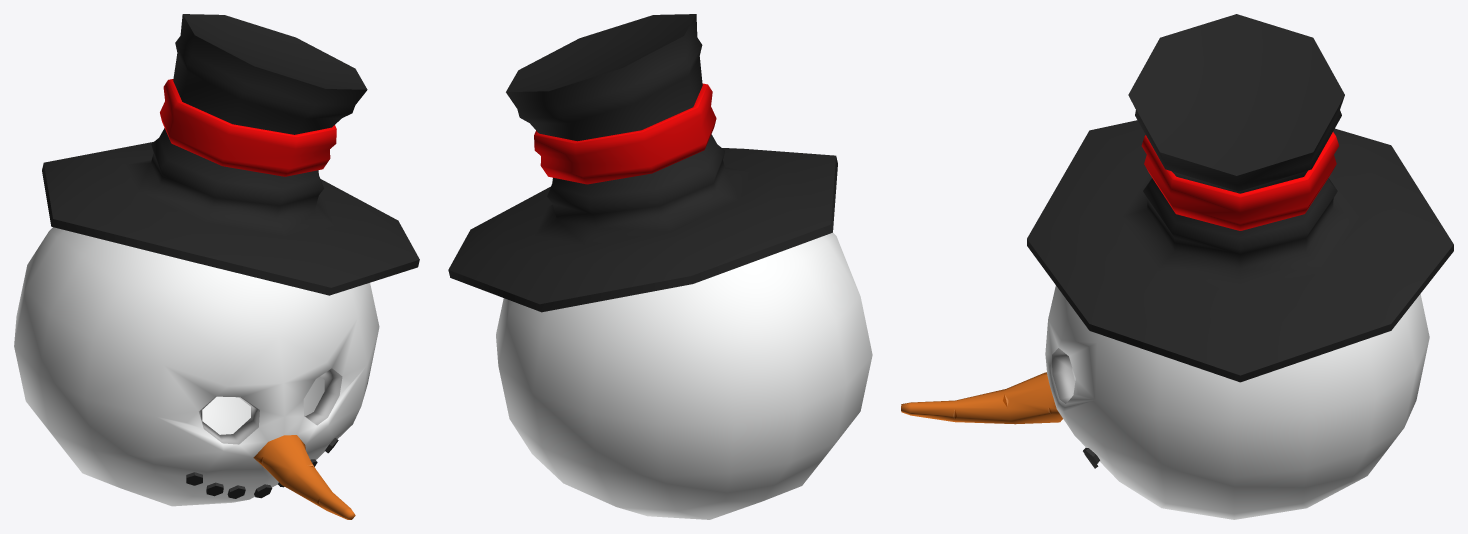
The model's file is Helmet_Snowman.glb.
3 renders of one model, left to right at view 1: azimuth 30°, elevation 25°; view 2: azimuth 150°, elevation 25°; view 3: azimuth 270°, elevation 25°, orthographic. The views are drawn at different scales.
Visible parts, largest first — view 1: Helmet_Snowman; view 2: Helmet_Snowman; view 3: Helmet_Snowman.
Part boxes in pixels (box(x1,y1,x2,y2)): Helmet_Snowman: box(14, 14, 419, 519); Helmet_Snowman: box(448, 14, 872, 519); Helmet_Snowman: box(901, 14, 1453, 519).
Size of what is drawn, in the model's own units: 1.23 by 1.46 by 1.51.
Materials: 1 (1 with a texture image).
